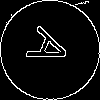A: (25, 25, 81, 75)
